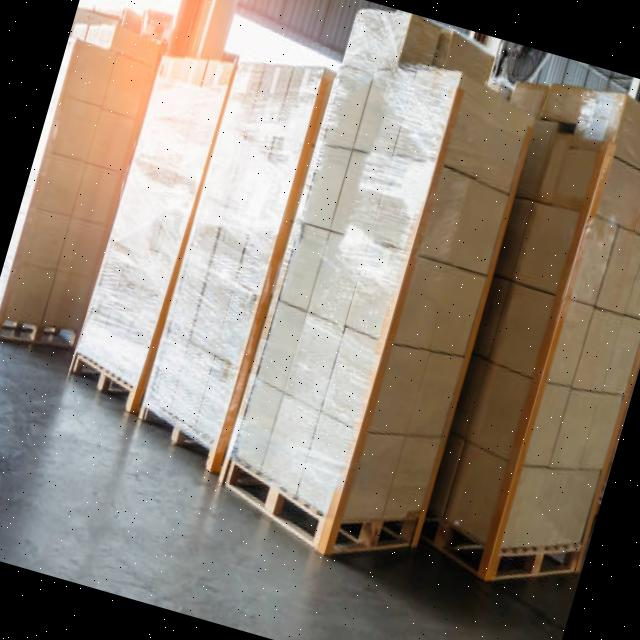Wooden-Pallets: (217, 453, 420, 564), (418, 509, 591, 590), (125, 391, 223, 482)
